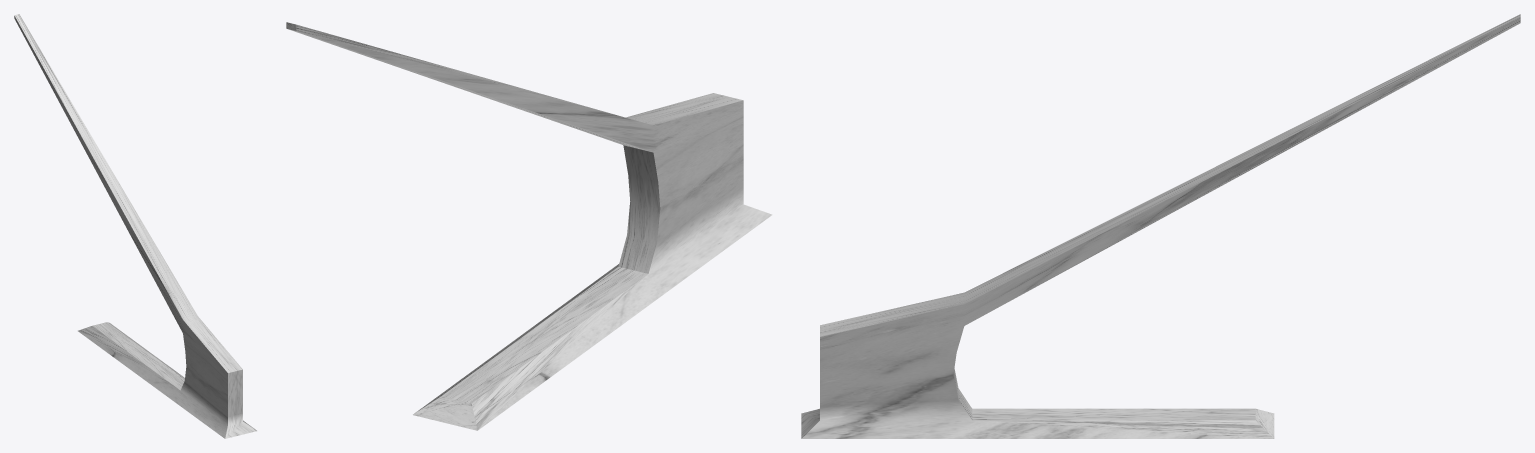
File: Sundial_arrow.fbx
3 views of the same model, side by side, from view 1: azimuth 30°, elevation 25°; view 2: azimuth 150°, elevation 25°; view 3: azimuth 270°, elevation 25° (orthographic). The views are drawn at different scales.
Visible parts, largest first — view 1: pCube1; view 2: pCube1; view 3: pCube1.
Boxes of the visible parts, left/top/right/bottom form: pCube1: left=14, top=14, right=256, bottom=438; pCube1: left=286, top=22, right=772, bottom=430; pCube1: left=801, top=14, right=1520, bottom=438.
Size of the model in its own units: 0.2003 by 1.5 by 2.39.
